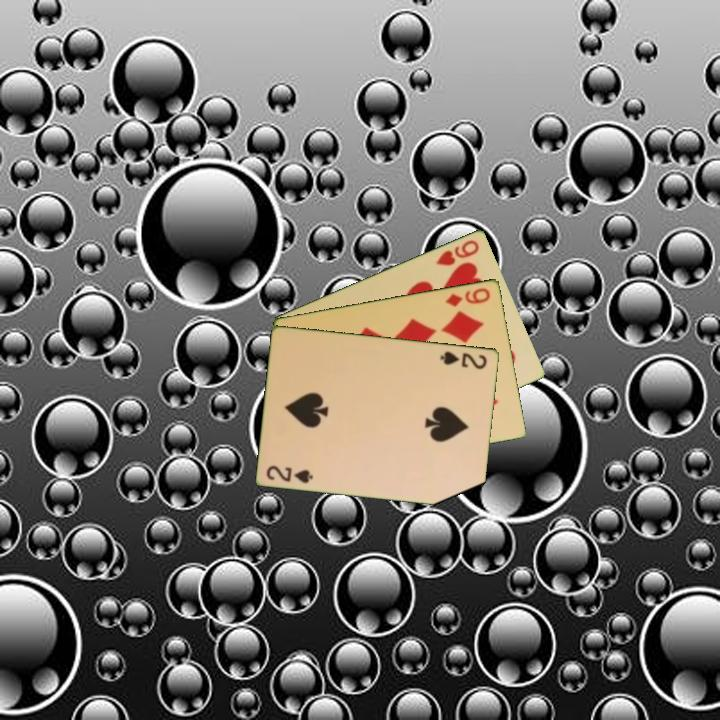2s: (437, 348, 490, 372), (263, 462, 316, 486)
9d: (442, 284, 493, 309)
9h: (432, 236, 482, 268)
